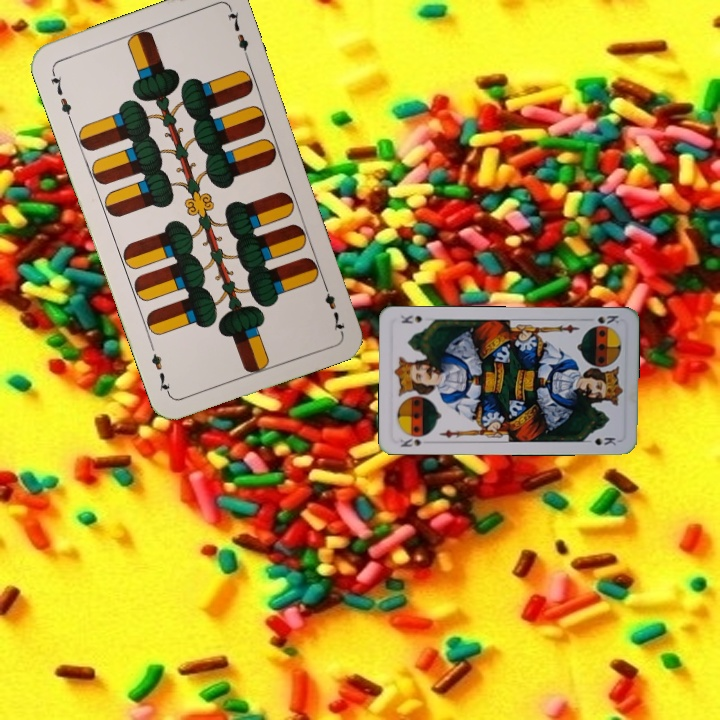E7: (318, 277, 347, 335), (46, 67, 75, 124)
SK: (396, 435, 434, 450), (593, 311, 621, 328)
